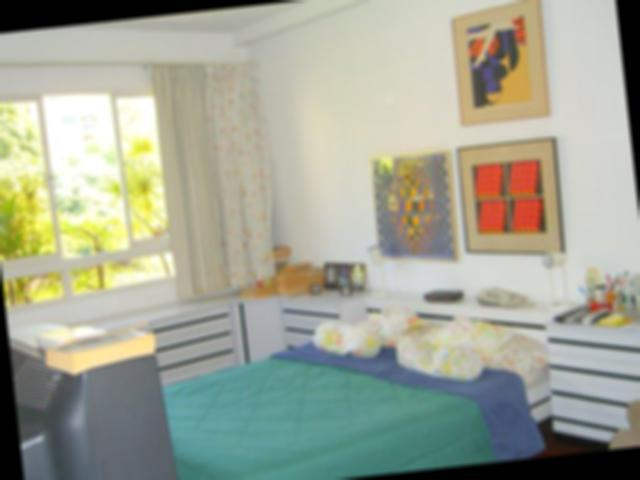Electrodomestico: (12, 318, 178, 480)
